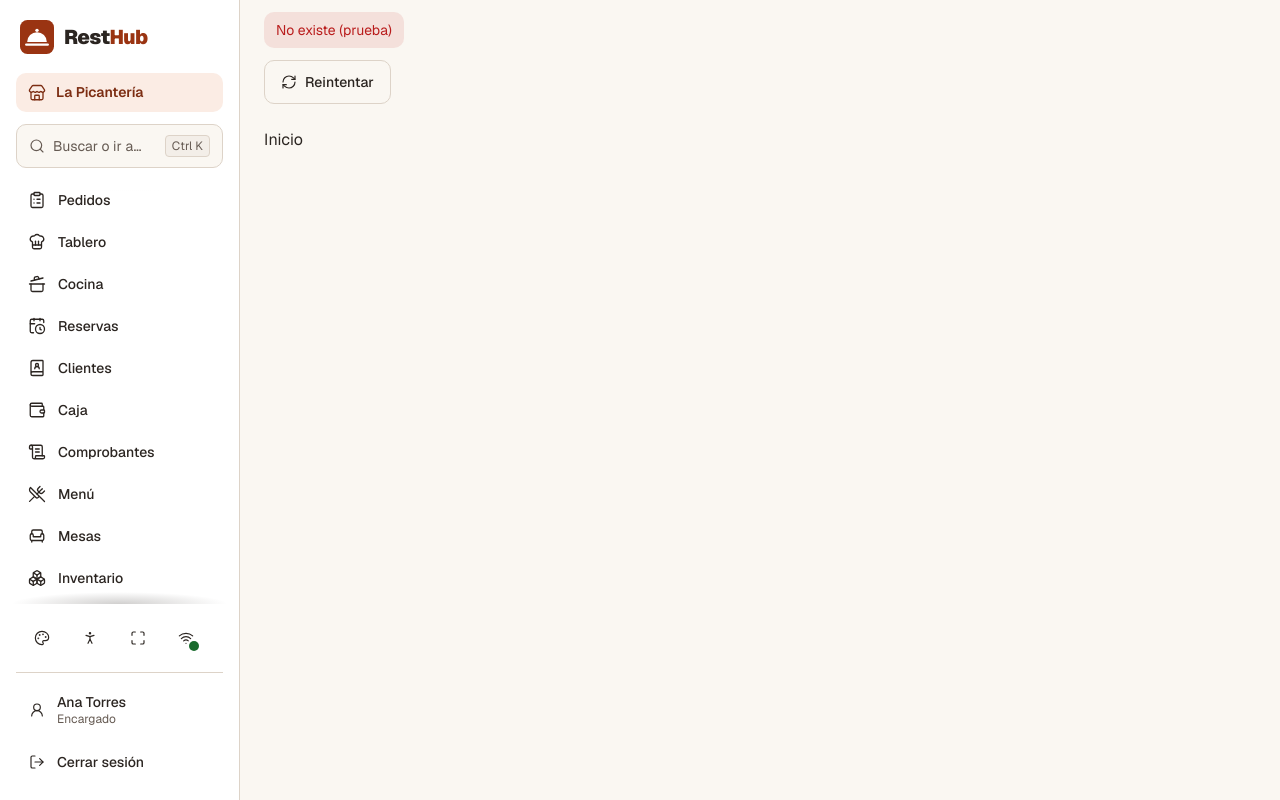
Test: Apariencia rápida › «Texto más pequeño» no baja del tamaño normal
The image size is (1280, 800).
Click the button named "Apariencia rápida". click: (42, 638)
box: [20,616,64,660]
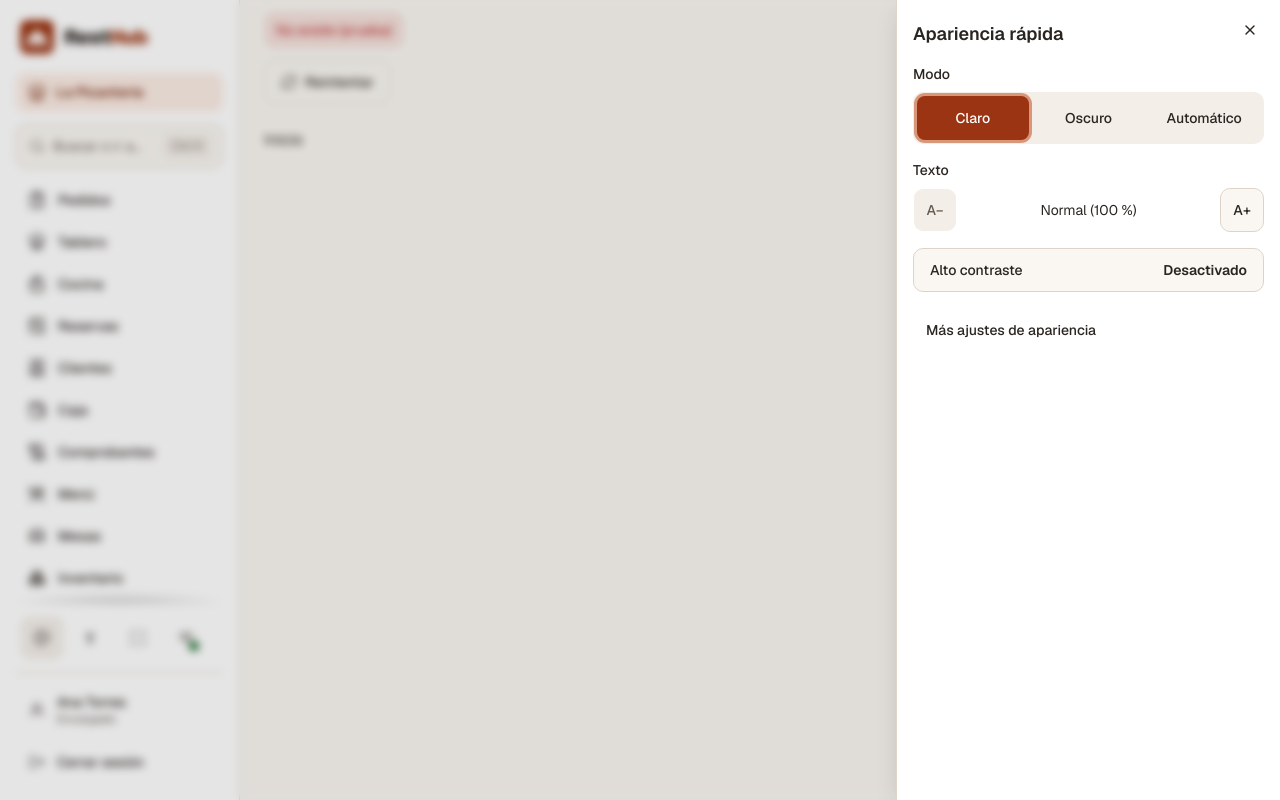
expect the button named "Texto más pequeño" is disabled: met, box [913,188,957,232]
